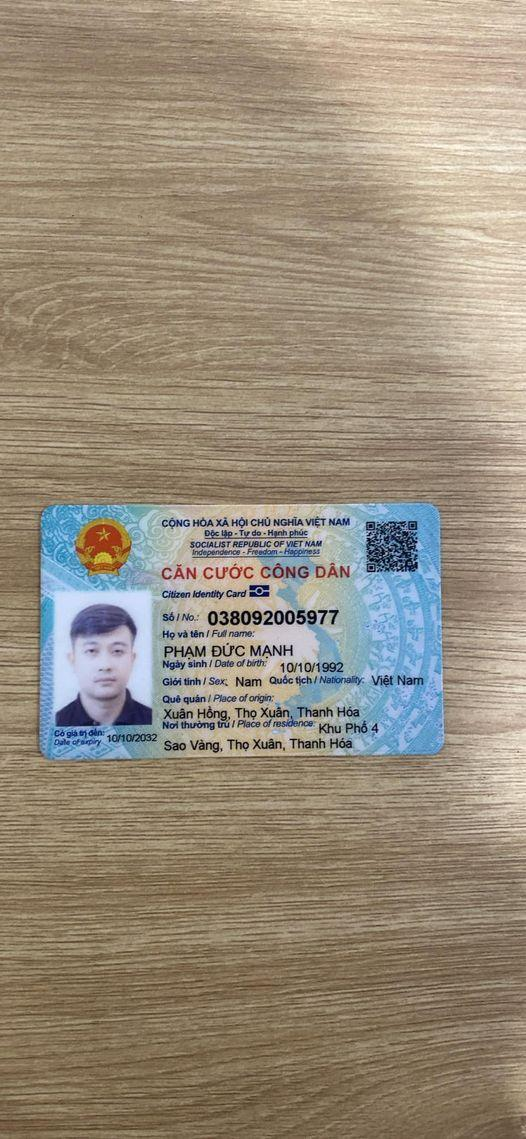bottom_left: (29, 742, 58, 764)
bottom_right: (430, 742, 450, 760)
image_person: (58, 590, 151, 722)
top_left: (38, 504, 56, 526)
top_right: (424, 497, 450, 522)
